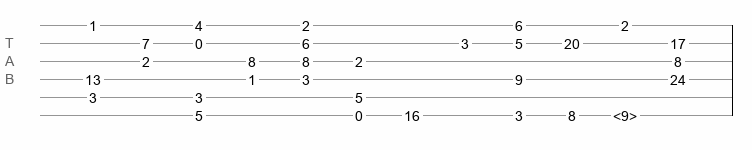0: (195, 36, 203, 46), (355, 108, 363, 118)
1: (89, 18, 97, 28), (248, 72, 256, 82)
13: (85, 72, 101, 82)
16: (404, 108, 420, 118)
17: (670, 36, 686, 46)
2: (142, 54, 150, 64), (302, 18, 310, 28), (355, 54, 363, 64), (621, 18, 629, 28)
20: (564, 36, 580, 46)
24: (670, 72, 686, 82)
3: (89, 90, 97, 100), (195, 90, 203, 100), (302, 72, 310, 82), (461, 36, 469, 46), (515, 108, 523, 118)
4: (195, 18, 203, 28)
5: (195, 108, 203, 118), (355, 90, 363, 100), (515, 36, 523, 46)
6: (302, 36, 310, 46), (515, 18, 523, 28)
7: (142, 36, 150, 46)
8: (248, 54, 256, 64), (302, 54, 310, 64), (568, 108, 576, 118), (674, 54, 682, 64)
9: (515, 72, 523, 82)
harmonic: (613, 108, 637, 118)
